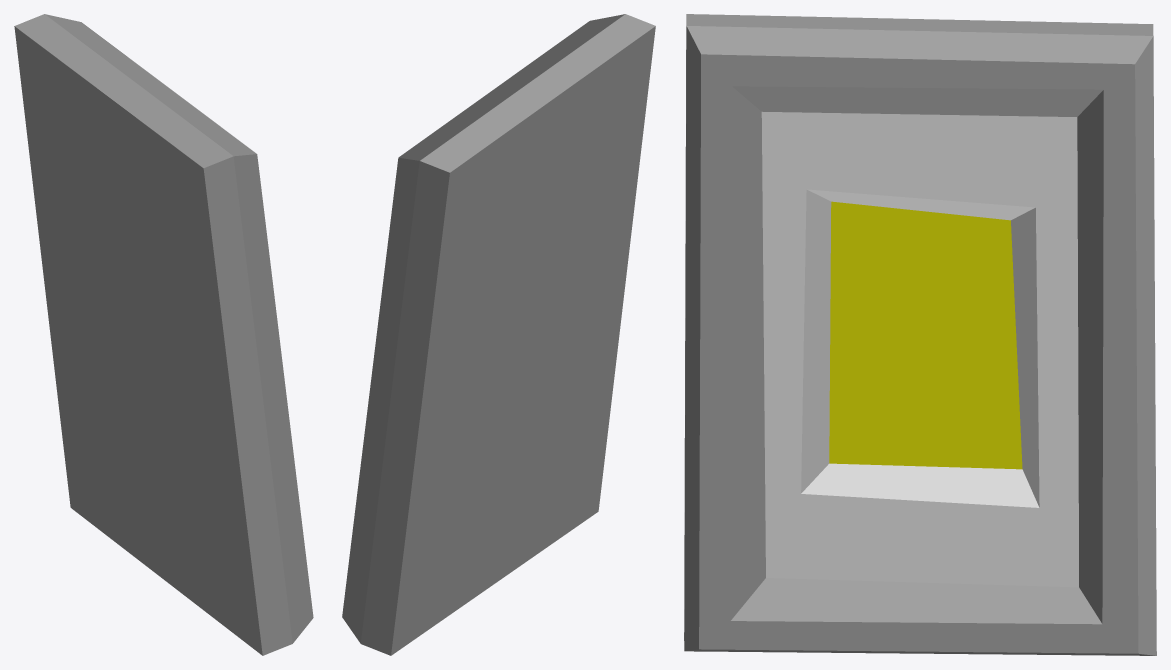
Rendered from FrameVertical.fbx.
The picture shows the model from 3 angles, left to right: view 1: azimuth 30°, elevation 25°; view 2: azimuth 150°, elevation 25°; view 3: azimuth 270°, elevation 25°; orthographic projection. The views are drawn at different scales.
Visible parts, largest first — view 1: FrameVertical; view 2: FrameVertical; view 3: FrameVertical.
Part boxes in pixels (x1,y1,x2,y2): FrameVertical: (14, 14, 313, 655); FrameVertical: (342, 14, 655, 655); FrameVertical: (684, 14, 1156, 655).
Size of the model in its own units: 8.17 by 32.18 by 23.07.
